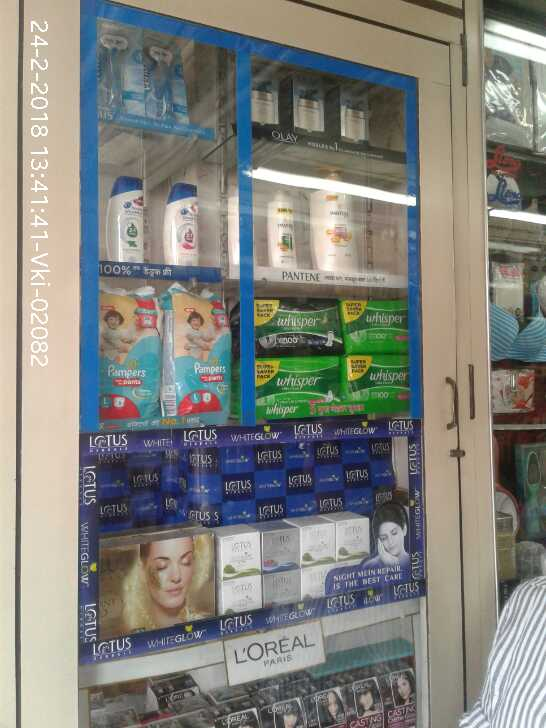venus: (138, 18, 191, 118), (89, 18, 138, 111)
